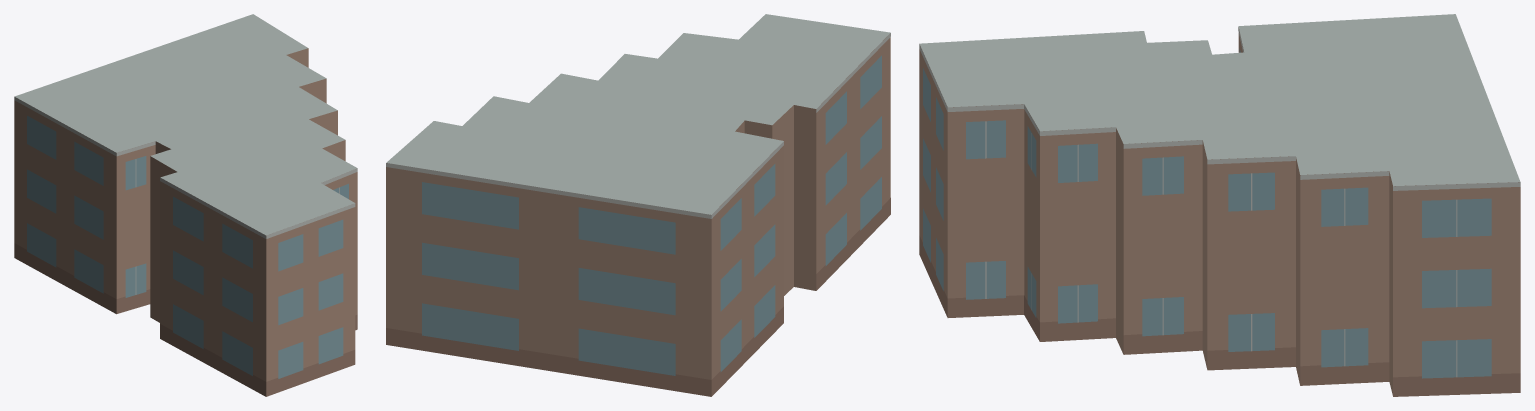
File: survey-upis-32849902.glb
3 renders of one model, left to right at view 1: azimuth 30°, elevation 25°; view 2: azimuth 150°, elevation 25°; view 3: azimuth 270°, elevation 25°, orthographic. The views are drawn at different scales.
Parts seen in each view (by area): view 1: survey-upis-32849902.tmp; view 2: survey-upis-32849902.tmp; view 3: survey-upis-32849902.tmp.
Boxes of the visible parts, bbox=[...] form: survey-upis-32849902.tmp: bbox=[14, 14, 357, 396]; survey-upis-32849902.tmp: bbox=[386, 14, 890, 396]; survey-upis-32849902.tmp: bbox=[919, 14, 1520, 396].
Size of the model in its own units: 18.76 by 10.7 by 27.68.
